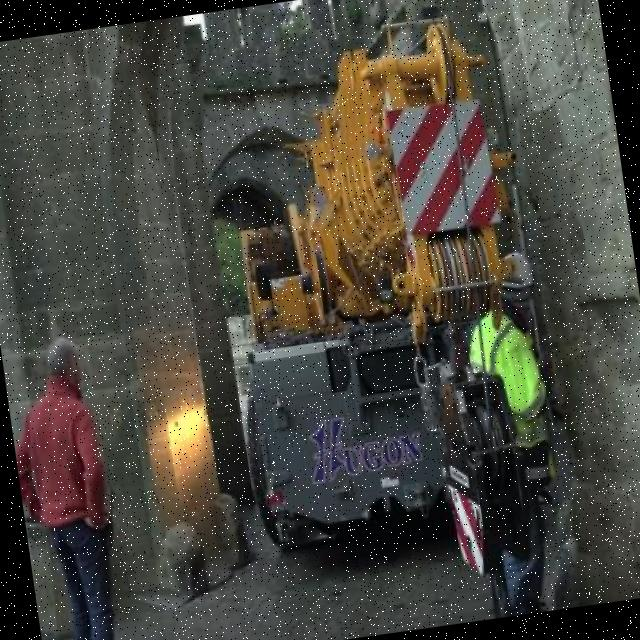Mobile Crane: (186, 8, 568, 634)
